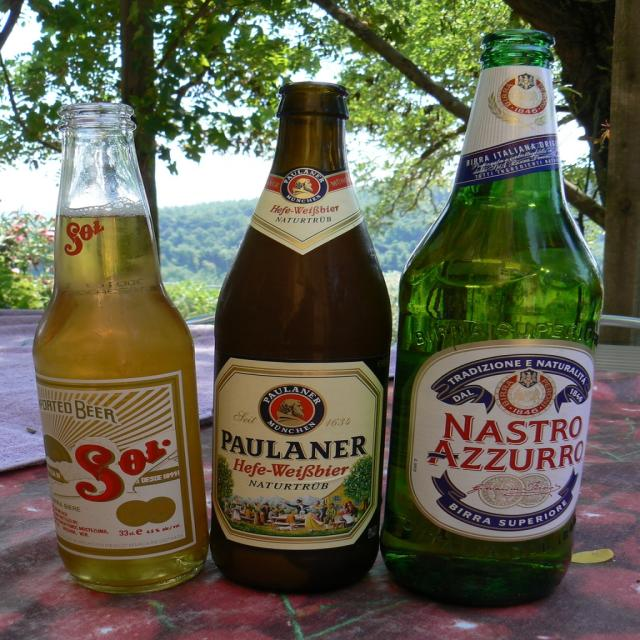paulaner: (259, 385, 326, 436), (282, 170, 328, 205)
